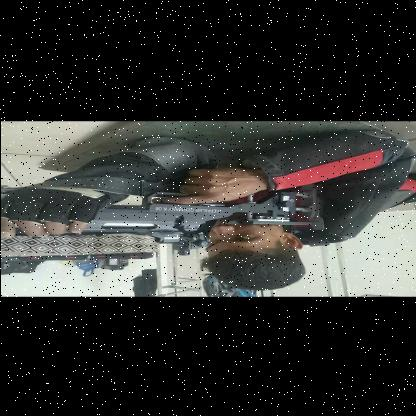rifle: (0, 178, 330, 256)
